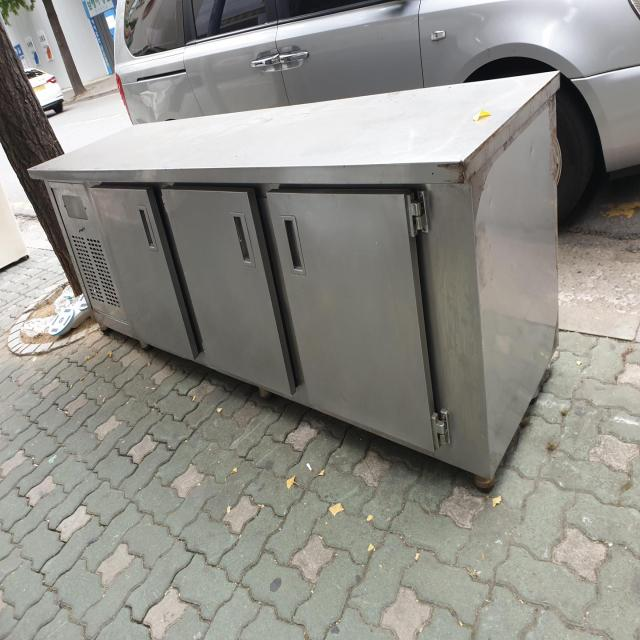refrigerator: (24, 62, 570, 495)
